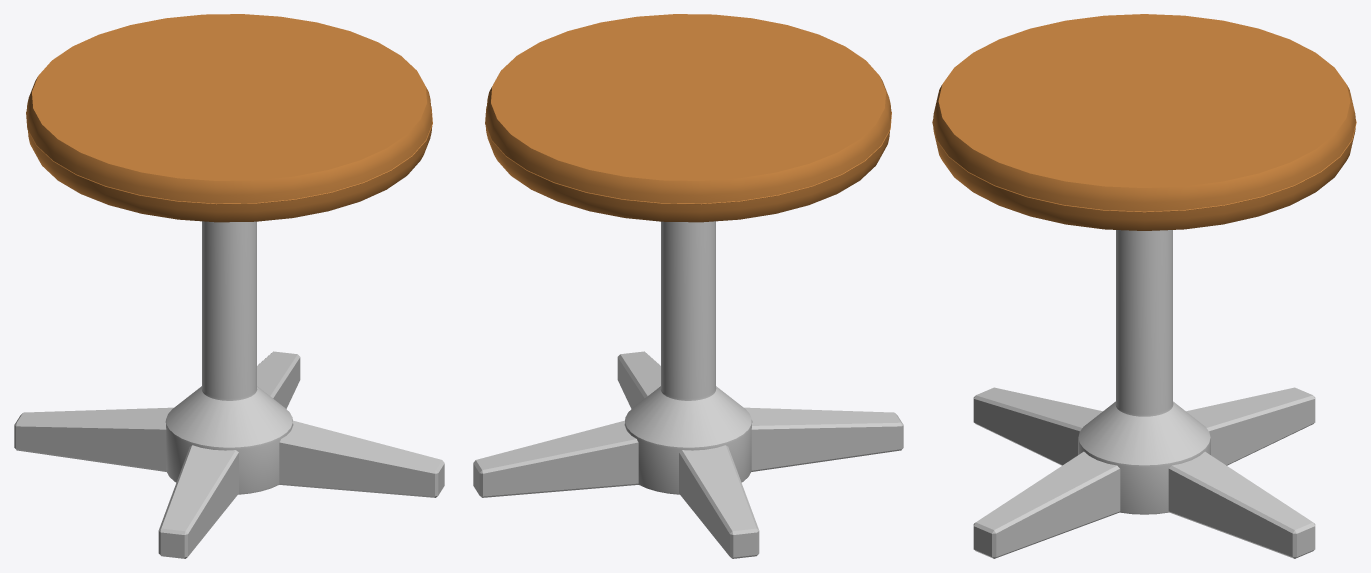
The model's file is Chair.fbx.
3 renders of one model, left to right at view 1: azimuth 30°, elevation 25°; view 2: azimuth 150°, elevation 25°; view 3: azimuth 270°, elevation 25°, orthographic. The views are drawn at different scales.
Visible parts, largest first — view 1: Chair; view 2: Chair; view 3: Chair.
Boxes of the visible parts, box(x1,y1,x2,y2) form: Chair: box(14, 14, 444, 558); Chair: box(473, 14, 903, 558); Chair: box(932, 14, 1356, 558).
Bounding box in the file's own units: 97.57 × 98.14 × 97.57.
